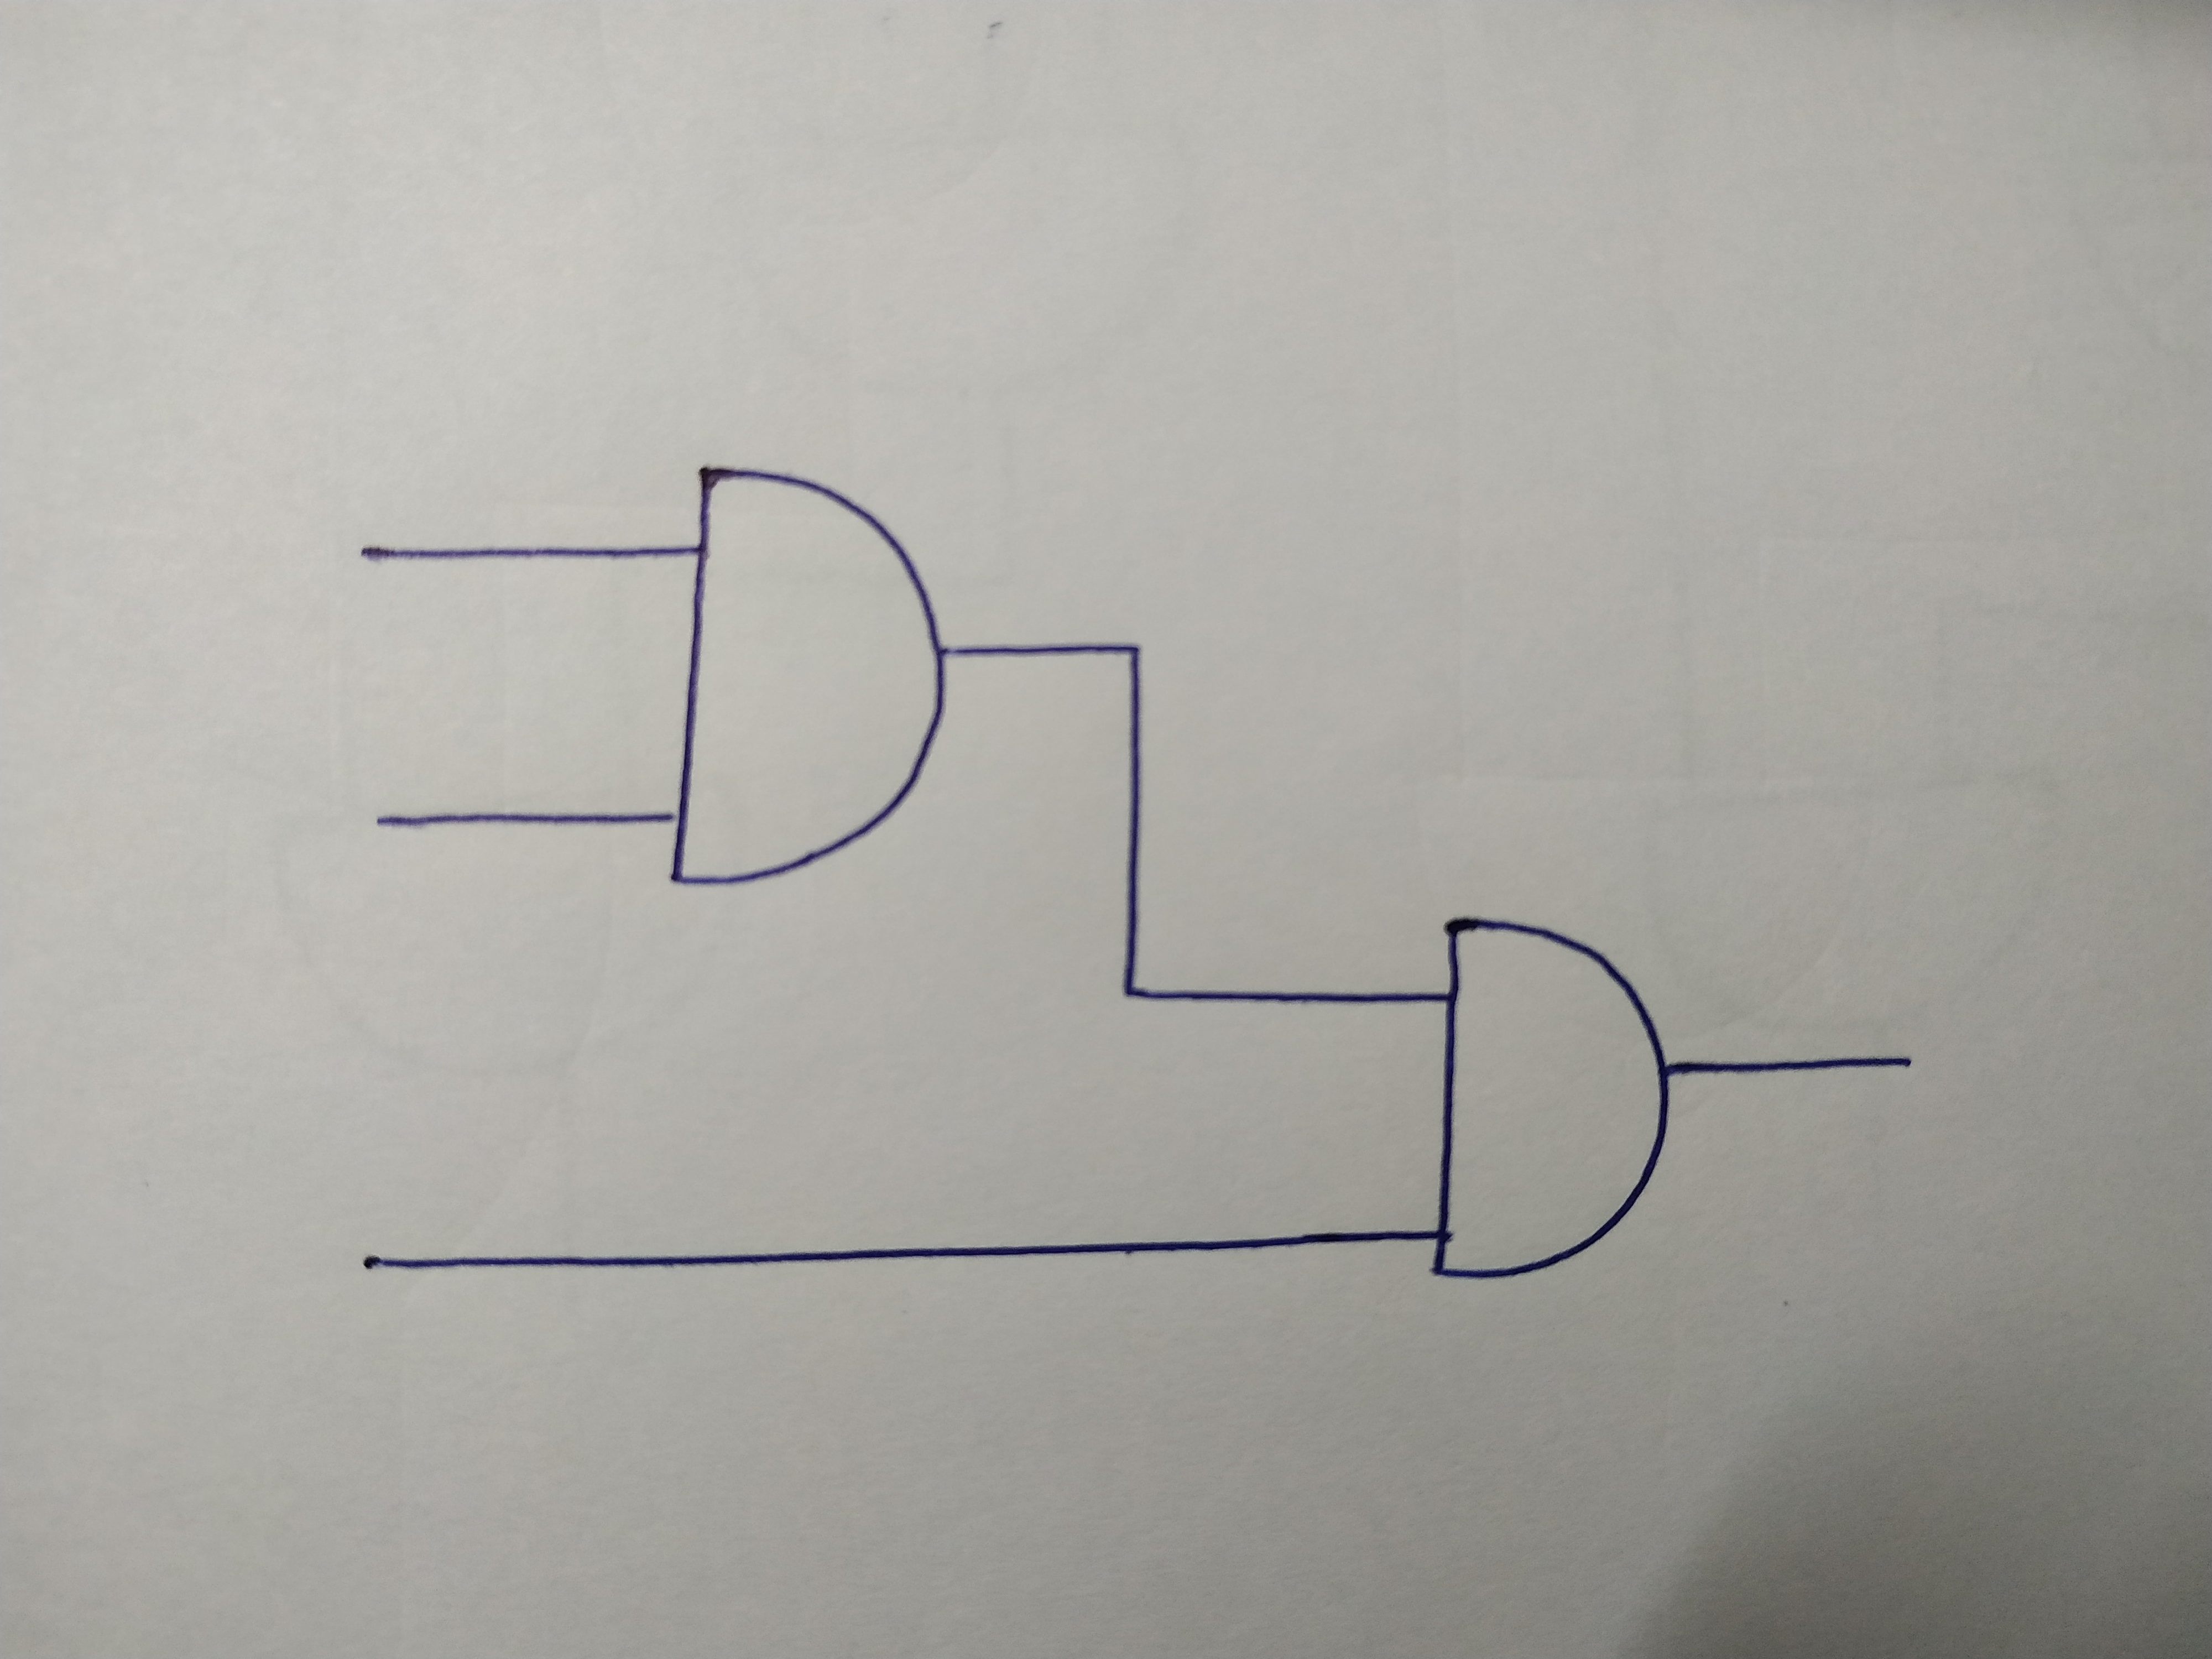and: (662, 464, 953, 884), (1430, 917, 1663, 1284)
